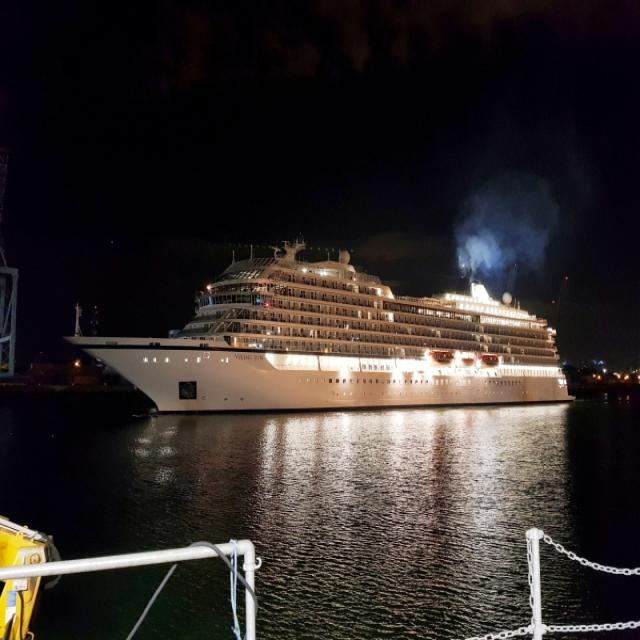cruises: (62, 238, 580, 423)
